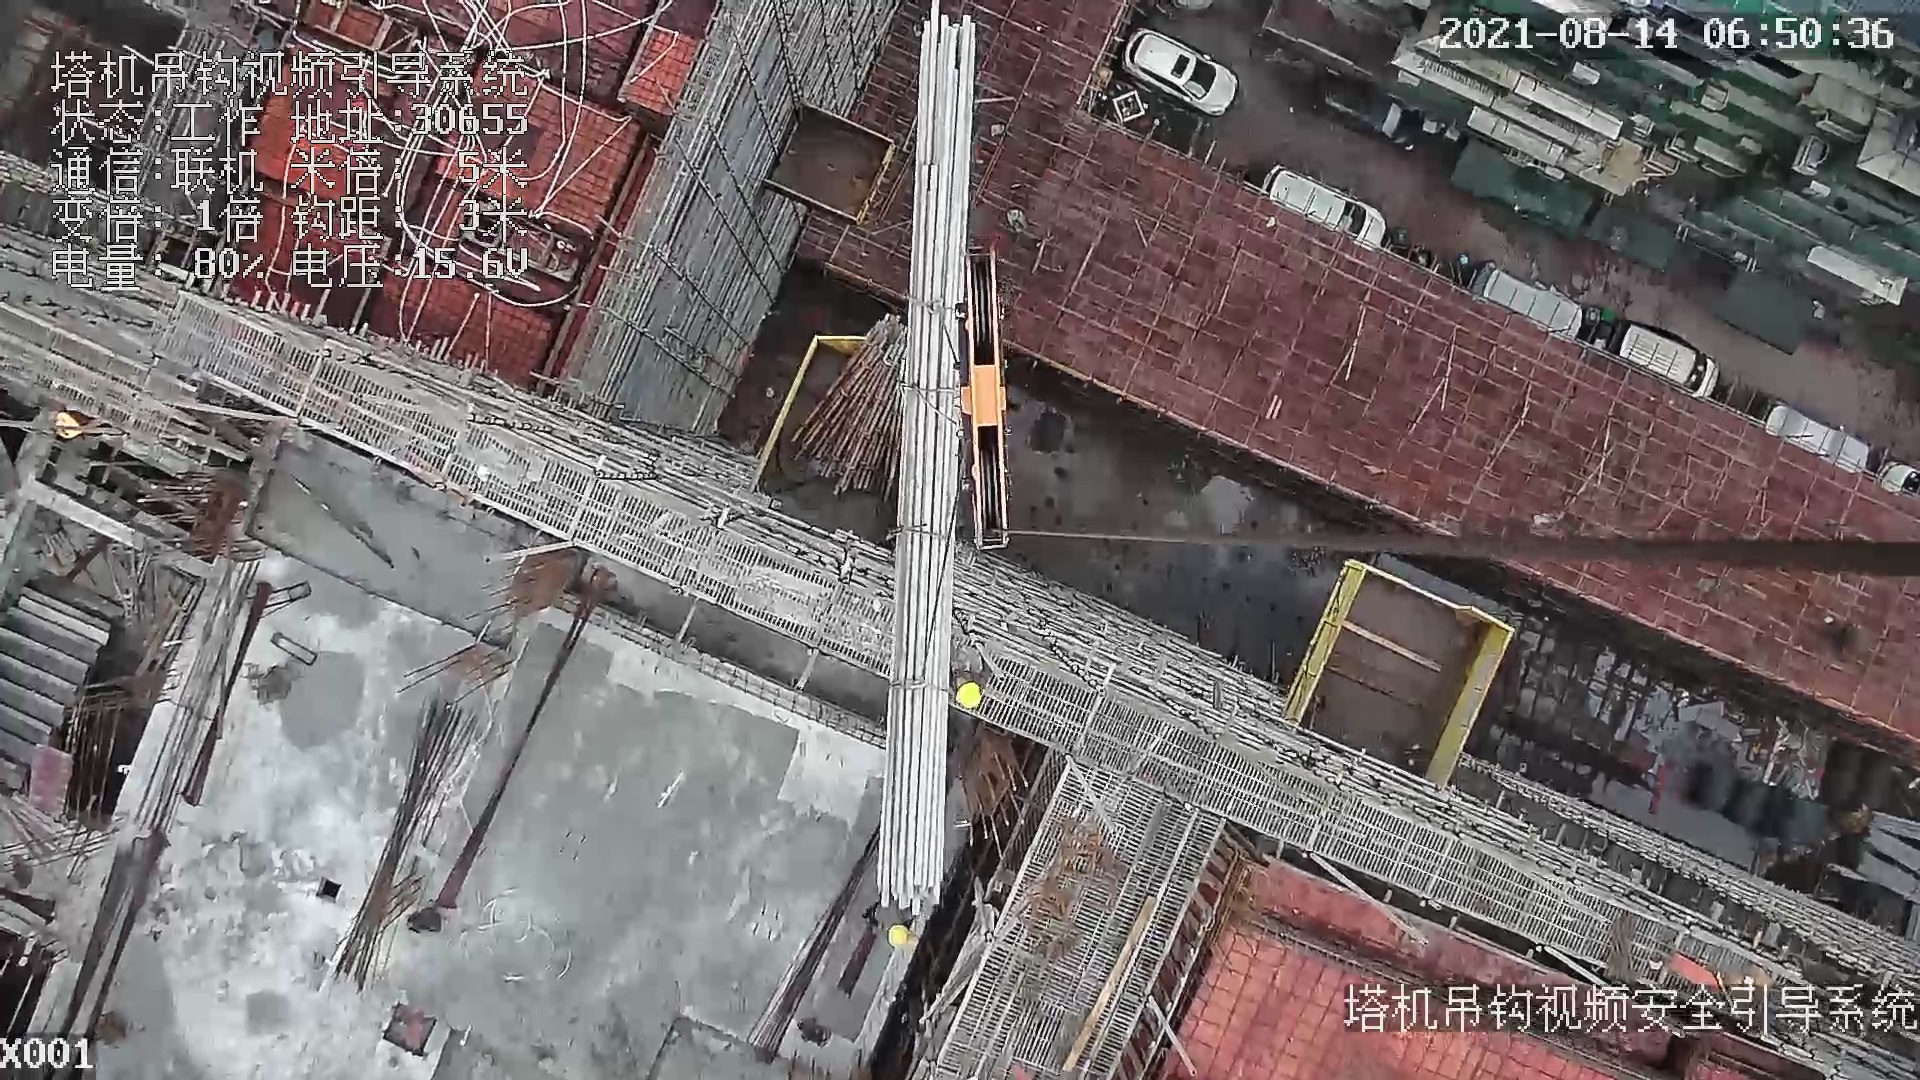helmet: (53, 405, 85, 445), (952, 674, 985, 709), (888, 918, 916, 955)
person: (870, 899, 920, 956), (945, 642, 987, 705)
